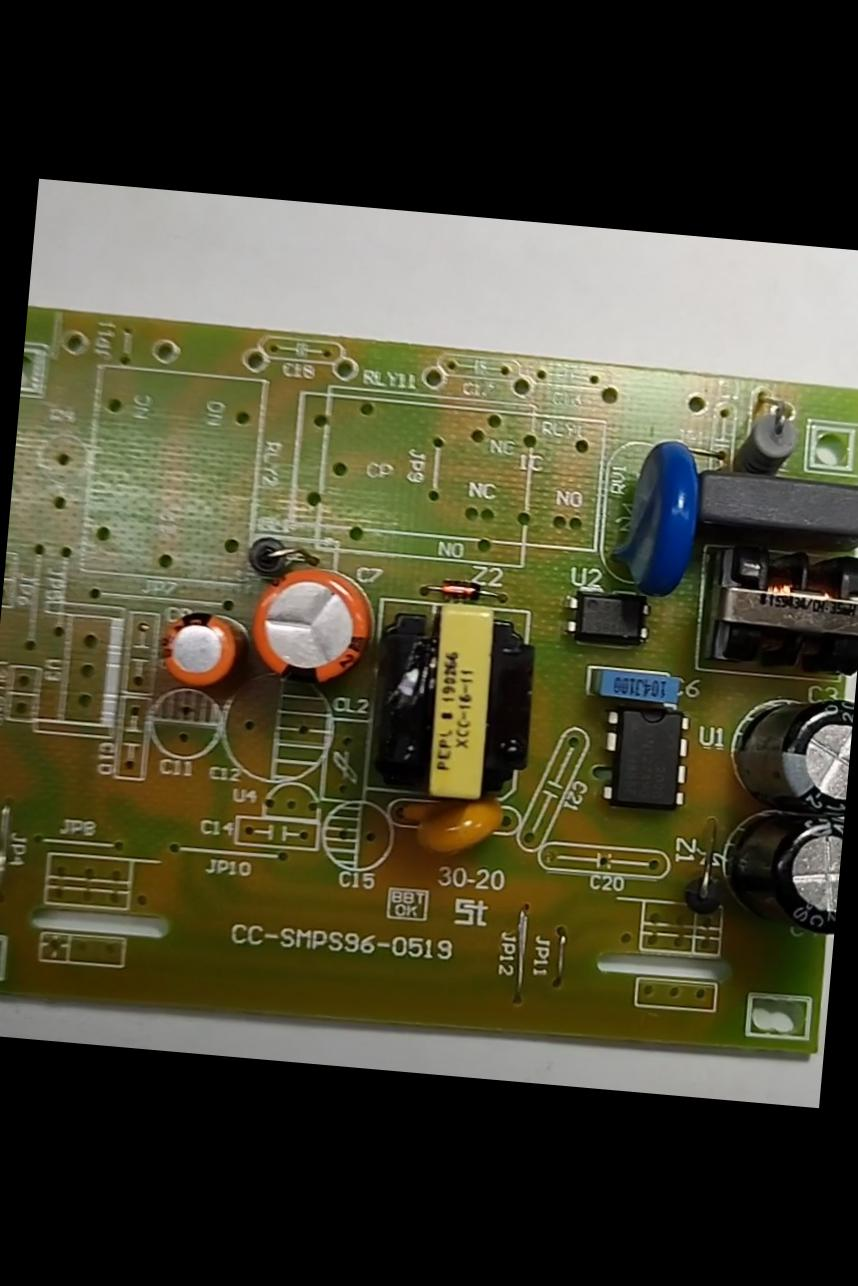Cap1: (238, 538, 380, 710)
Cap2: (141, 584, 263, 710)
Cap3: (709, 686, 854, 818)
Cap4: (693, 796, 844, 941)
MOSFET: (594, 686, 700, 830)
Mov: (582, 423, 730, 610)
Resistor: (728, 383, 808, 487)
Transformer: (354, 584, 552, 827), (688, 524, 857, 689)
